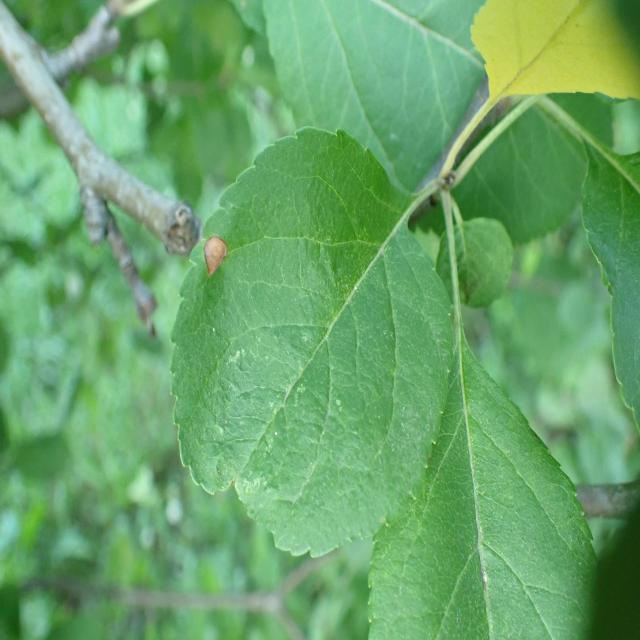frog-eye-leaf-spot: (169, 125, 455, 560)
